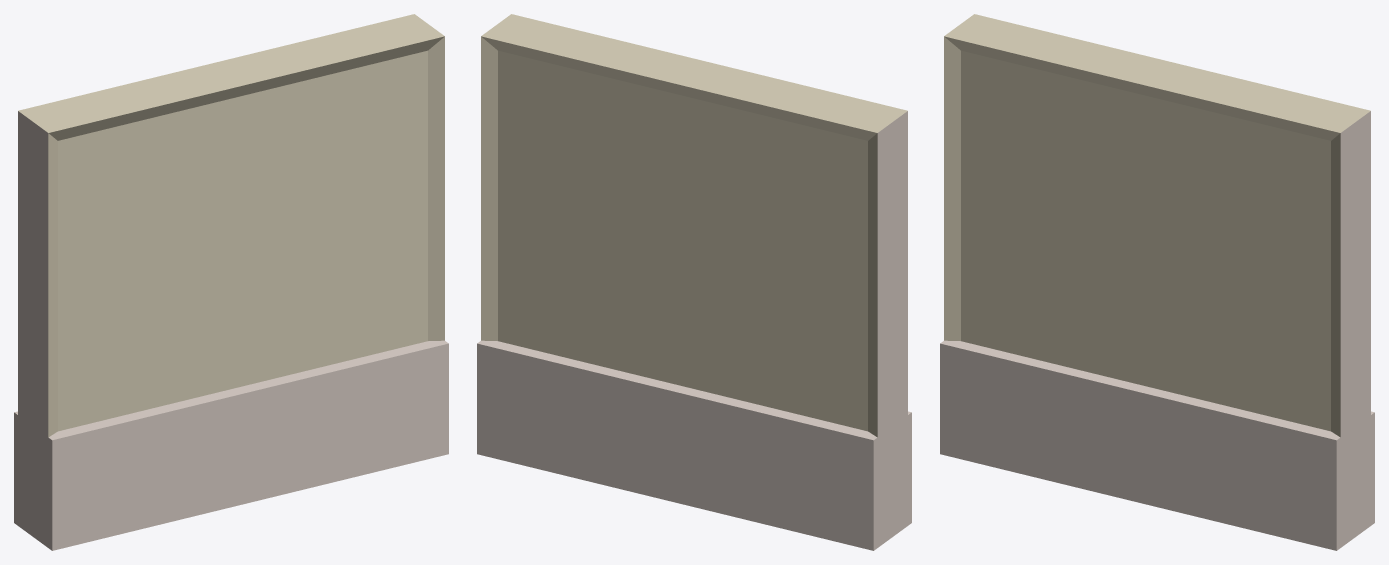
Rendered from roman_wall_3.fbx.
The picture shows the model from 3 angles, left to right: view 1: azimuth 30°, elevation 25°; view 2: azimuth 150°, elevation 25°; view 3: azimuth 330°, elevation 25°; orthographic projection.
Parts seen in each view (by area): view 1: Cube.005; view 2: Cube.005; view 3: Cube.005.
Part boxes in pixels (x1,y1,x2,y2): Cube.005: (14,14,448,550); Cube.005: (477,14,911,550); Cube.005: (940,14,1374,550).
Size of the model in its own units: 3 by 3 by 0.5.
